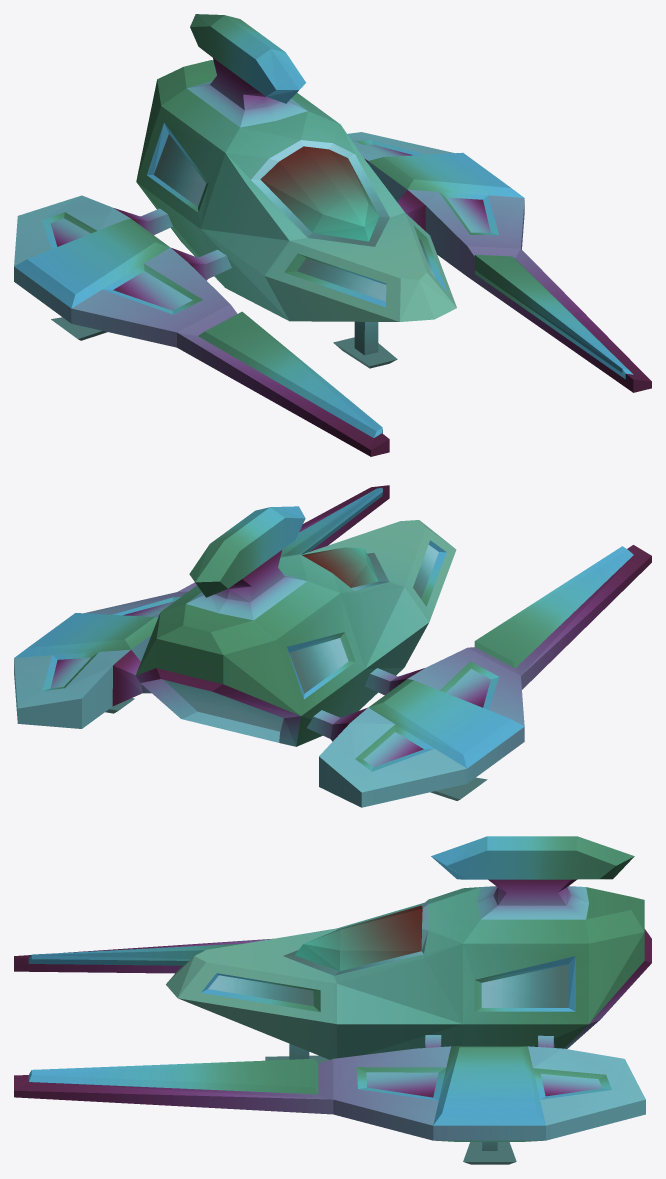
File: Spaceship_C_skin3.FBX
3 renders of one model, top to bottom at view 1: azimuth 30°, elevation 25°; view 2: azimuth 150°, elevation 25°; view 3: azimuth 270°, elevation 25°, orthographic.
Visible parts, largest first — view 1: spaceship_c_skin3, wing_c_skin3 (×2), Landing_gea_c_skin3; view 2: spaceship_c_skin3, wing_c_skin3 (×2), Landing_gea_c_skin3; view 3: spaceship_c_skin3, wing_c_skin3 (×2), Landing_gea_c_skin3.
Part boxes in pixels (<box>): spaceship_c_skin3: <box>136,14,456,321</box>; wing_c_skin3 (×2): <box>14,132,651,456</box>; Landing_gea_c_skin3: <box>333,321,397,368</box>; spaceship_c_skin3: <box>135,506,456,746</box>; wing_c_skin3 (×2): <box>14,485,651,807</box>; Landing_gea_c_skin3: <box>430,777,487,800</box>; spaceship_c_skin3: <box>166,836,651,1059</box>; wing_c_skin3 (×2): <box>14,938,645,1141</box>; Landing_gea_c_skin3: <box>463,1142,516,1164</box>.
Size of the model in its own units: 13.58 by 6.81 by 16.86.
